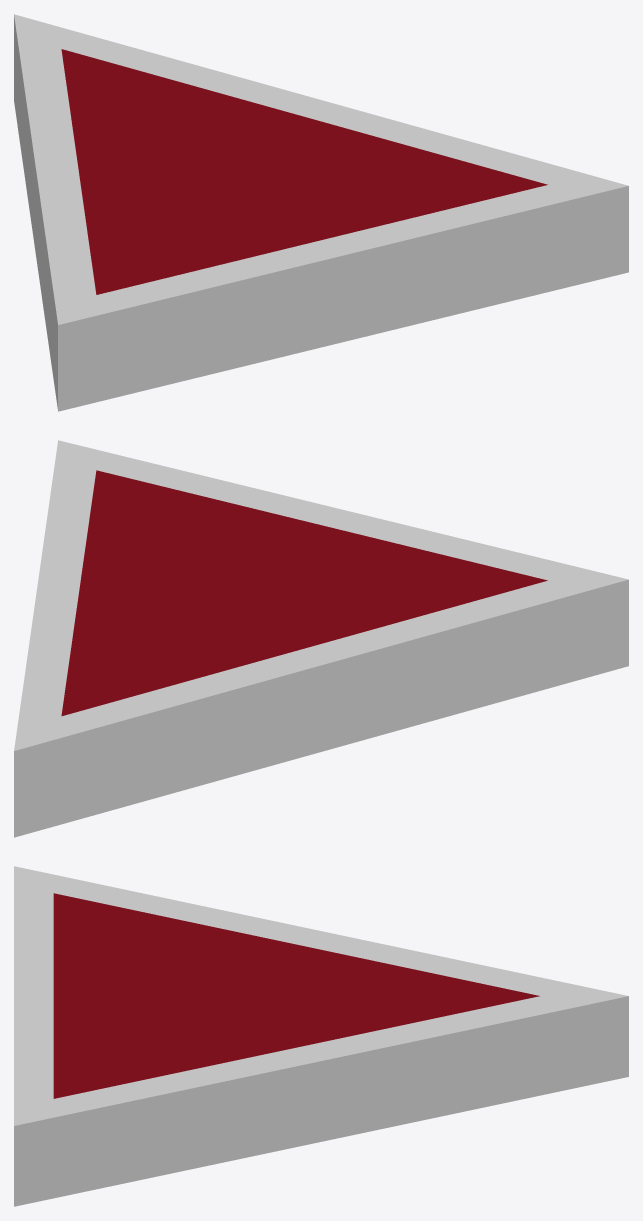
The model's file is arrow.fbx.
3 renders of one model, top to bottom at view 1: azimuth 30°, elevation 25°; view 2: azimuth 150°, elevation 25°; view 3: azimuth 270°, elevation 25°, orthographic. The views are drawn at different scales.
Parts seen in each view (by area): view 1: arrow; view 2: arrow; view 3: arrow.
Boxes of the visible parts, x1,y1,x2,y2 form: arrow: [14, 14, 628, 411]; arrow: [14, 440, 628, 837]; arrow: [14, 866, 628, 1206].
Bounding box in the file's own units: 200 × 28.99 × 200.
